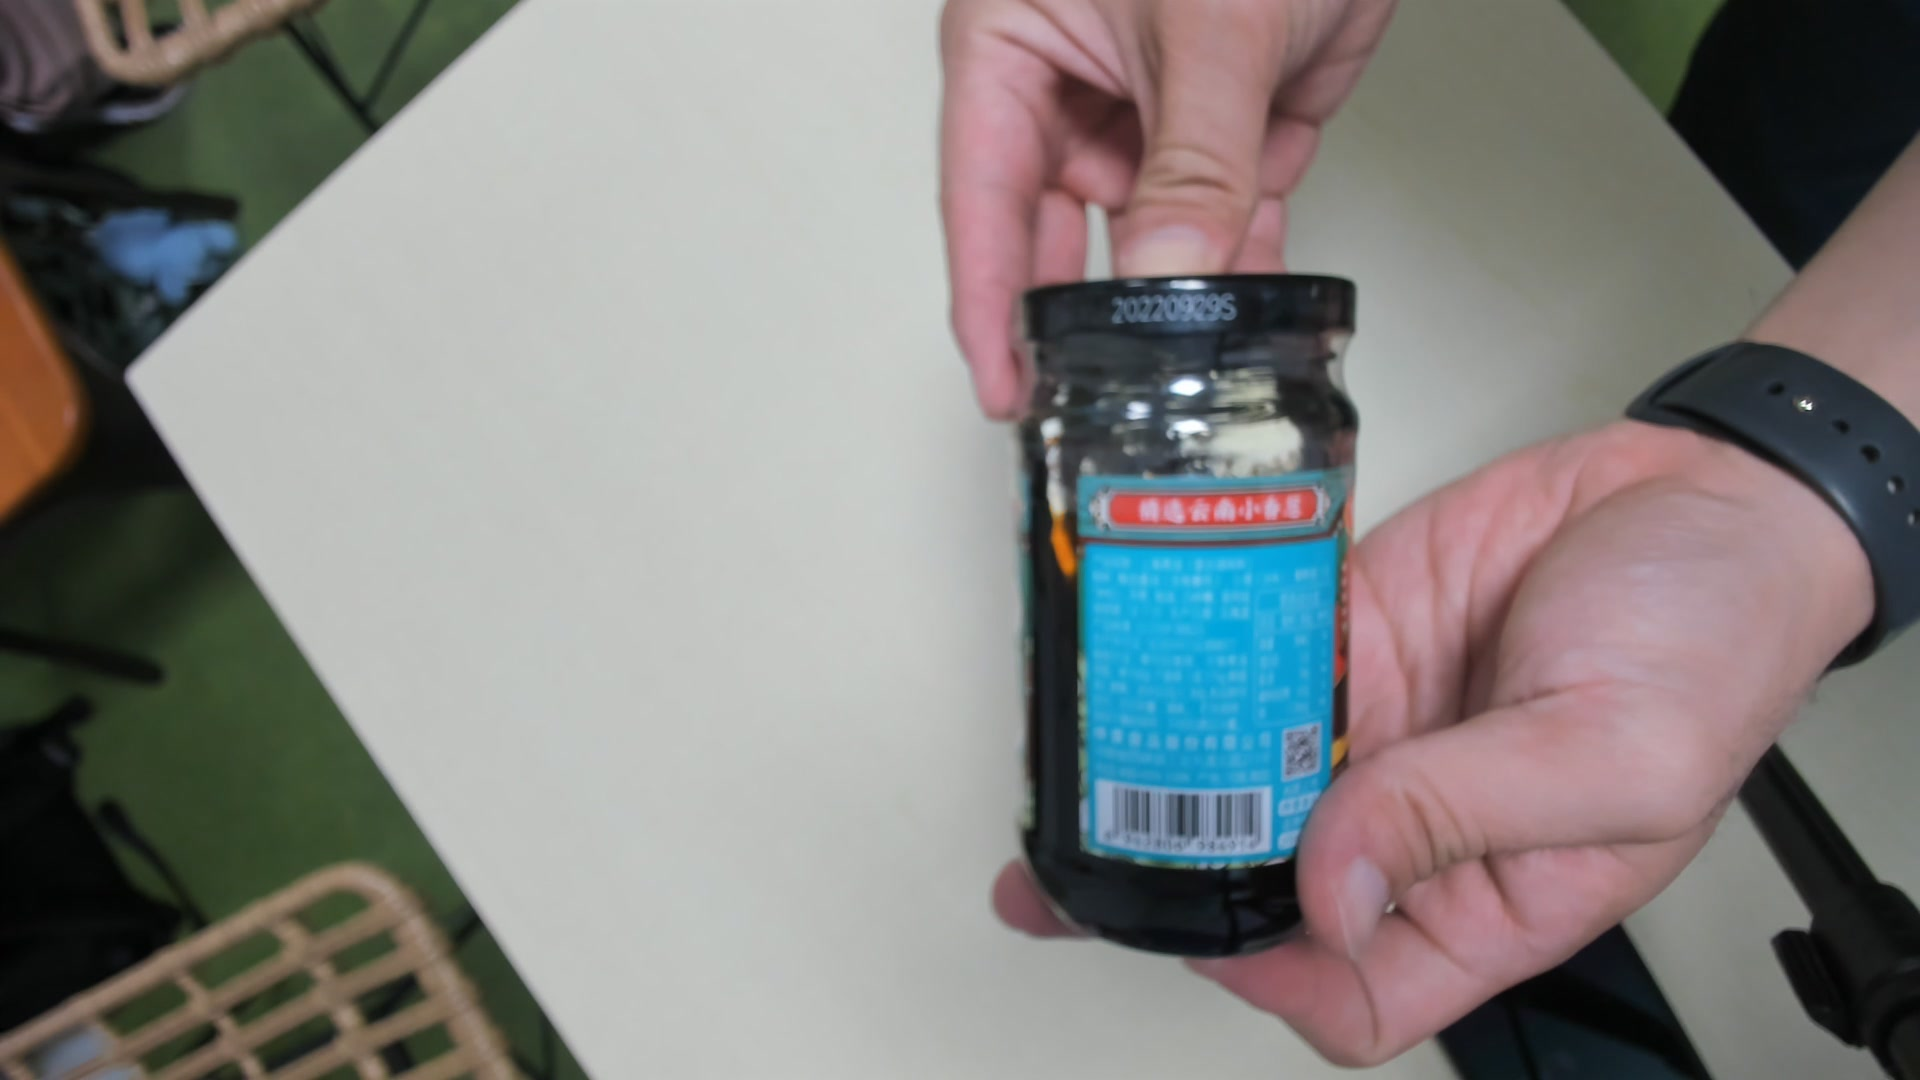OtherSauceDressing_200-299g_NonHalal_NonHealthy: (1011, 274, 1346, 955)
